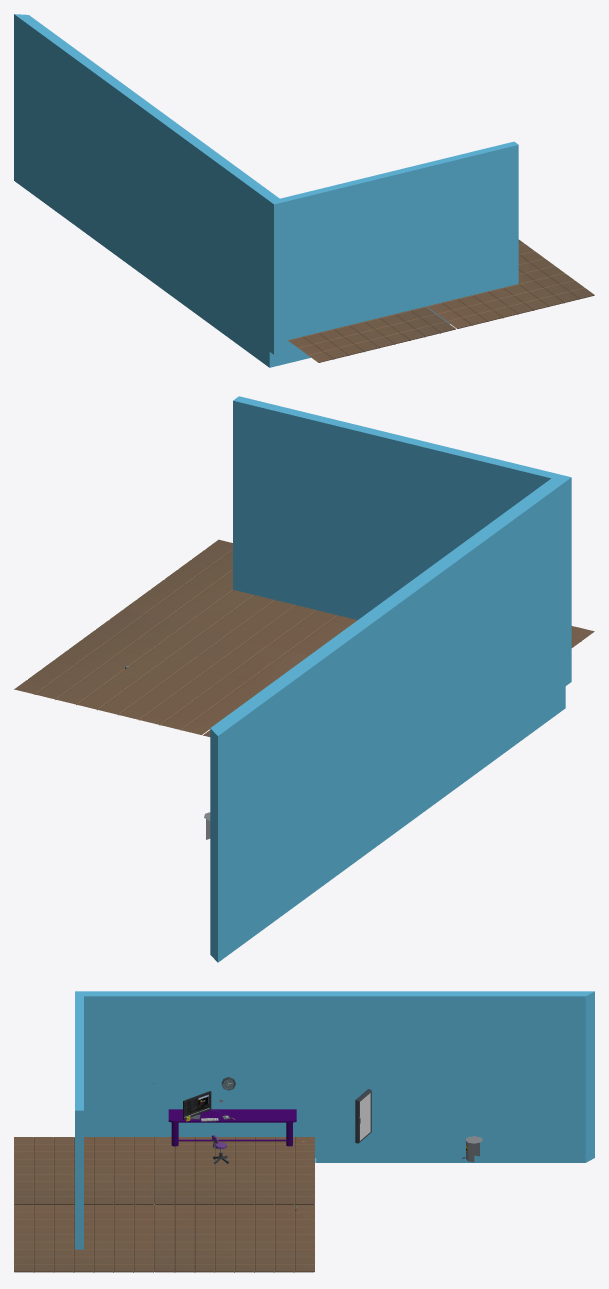
The model's file is laboratorio-small.glb.
The picture shows the model from 3 angles, top to bottom: view 1: azimuth 30°, elevation 25°; view 2: azimuth 150°, elevation 25°; view 3: azimuth 270°, elevation 25°; orthographic projection. The views are drawn at different scales.
Parts seen in each view (by area): view 1: floor_and_walls, tile; view 2: floor_and_walls, tile; view 3: floor_and_walls, tile, cane, PC, door.001, door.
Boxes of the visible parts, x1,y1,x2,y2 form: floor_and_walls: (14,14,518,367); tile: (288,239,594,362); floor_and_walls: (210,396,571,962); tile: (14,539,594,736); floor_and_walls: (75,991,594,1249); tile: (14,1137,314,1272); cane: (168,1109,296,1146); PC: (183,1091,211,1119); door.001: (360,1093,370,1140); door: (355,1089,371,1143).
Bounding box in the file's own units: 4.02 × 2.21 × 6.98.
Materials: 8 (4 with a texture image).
